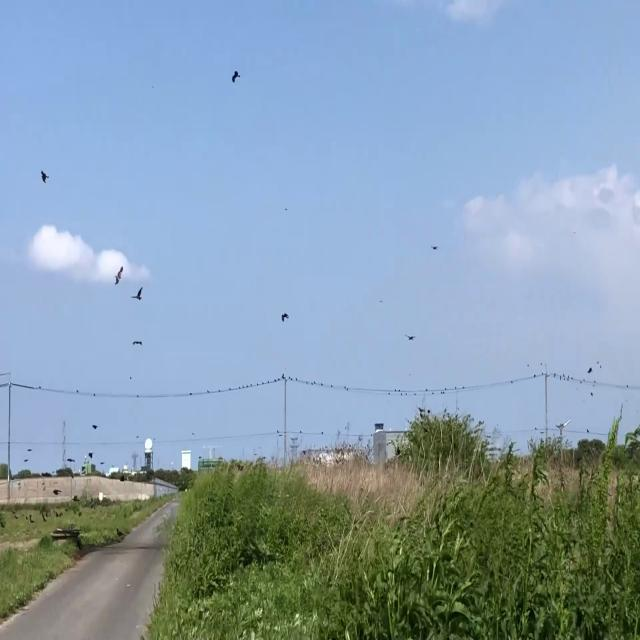bird: (115, 262, 123, 289), (40, 164, 49, 188), (232, 64, 239, 89), (406, 328, 416, 344), (587, 362, 592, 376)
